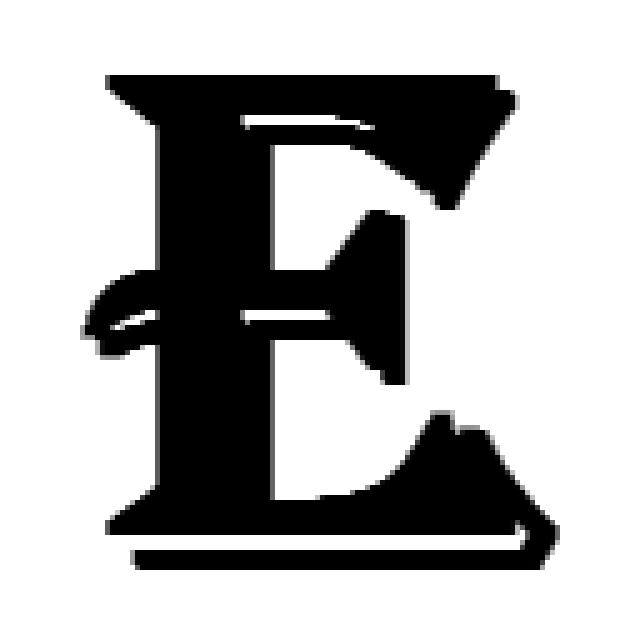E: (85, 75, 560, 570)
